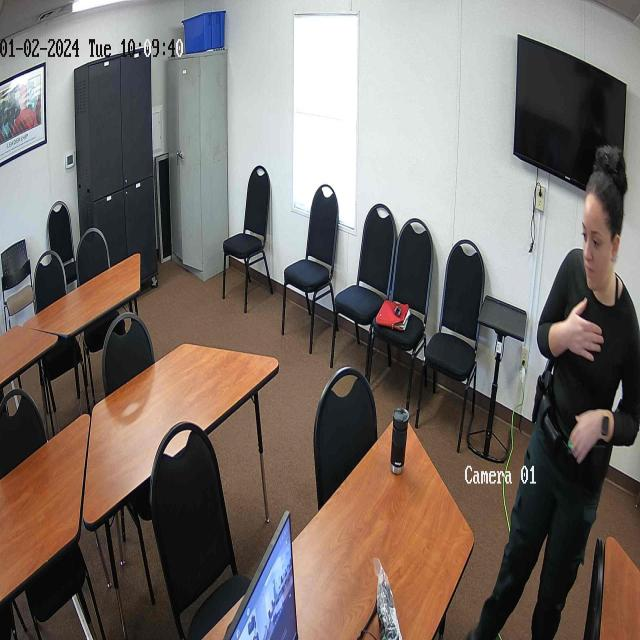weapon: (530, 360, 556, 426)
